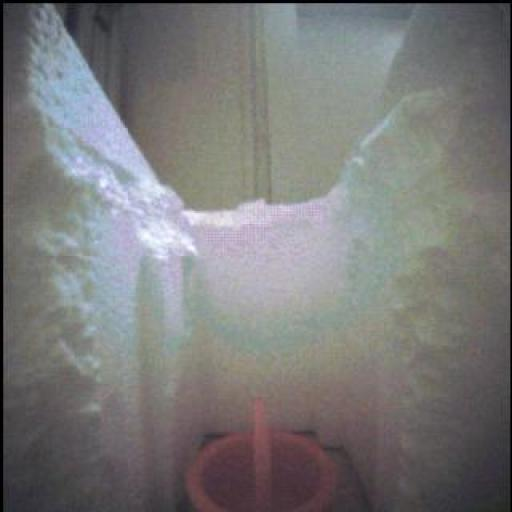Basket: (184, 392, 347, 512)
